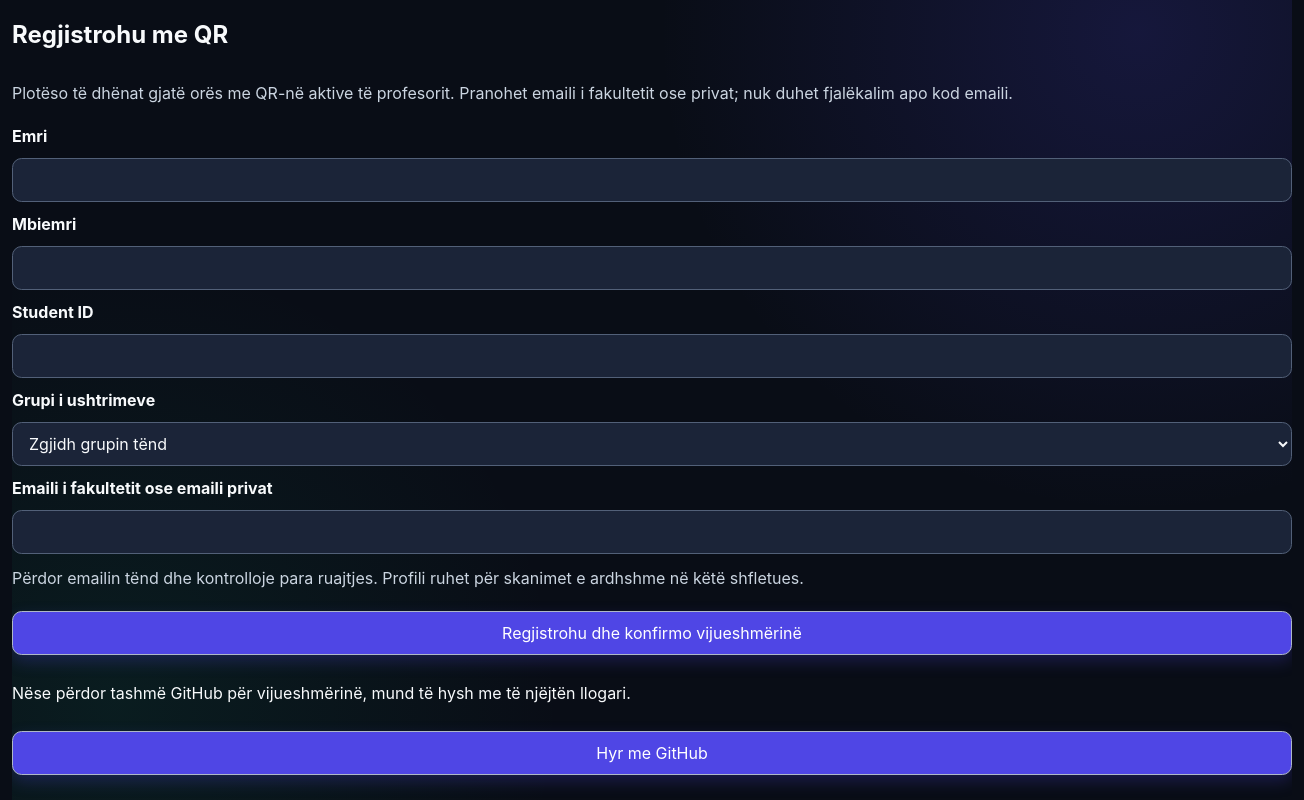
student check-in › registers without GitHub and retries check-in with the original held QR
Type "Arta" into the field labelled "Emri" at (652, 180), box [12,158,1292,202]
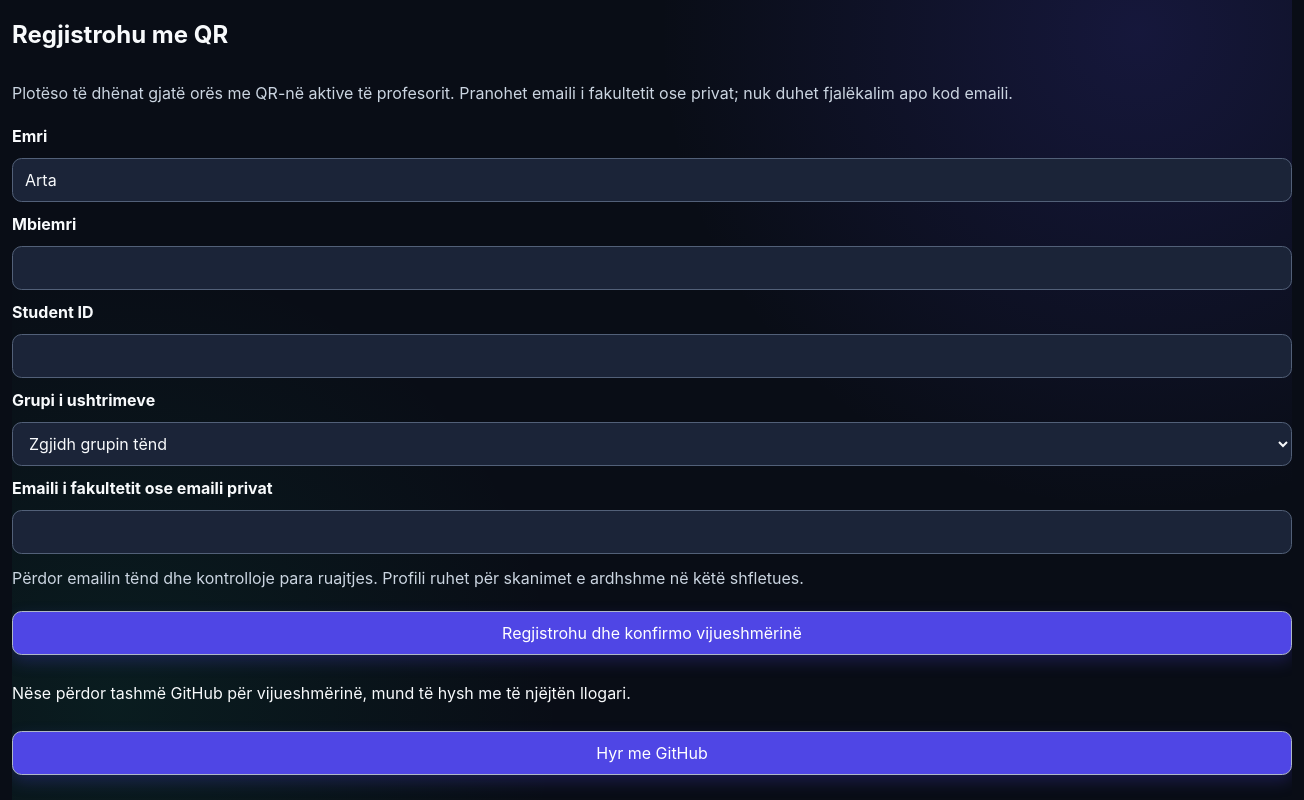
Type "Kola" into the field labelled "Mbiemri" at (652, 268), box [12,246,1292,290]
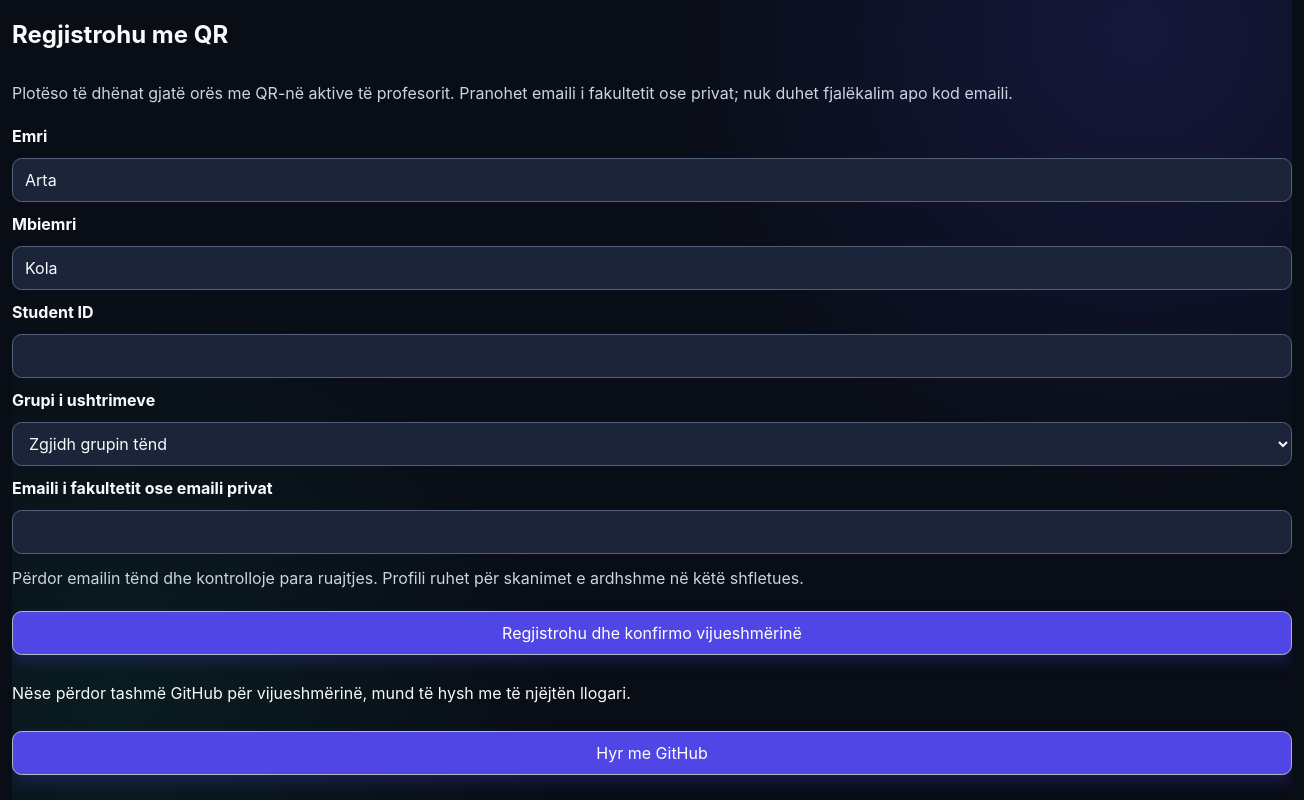
Type "A-100" into the field labelled "Student ID" at (652, 356), box [12,334,1292,378]
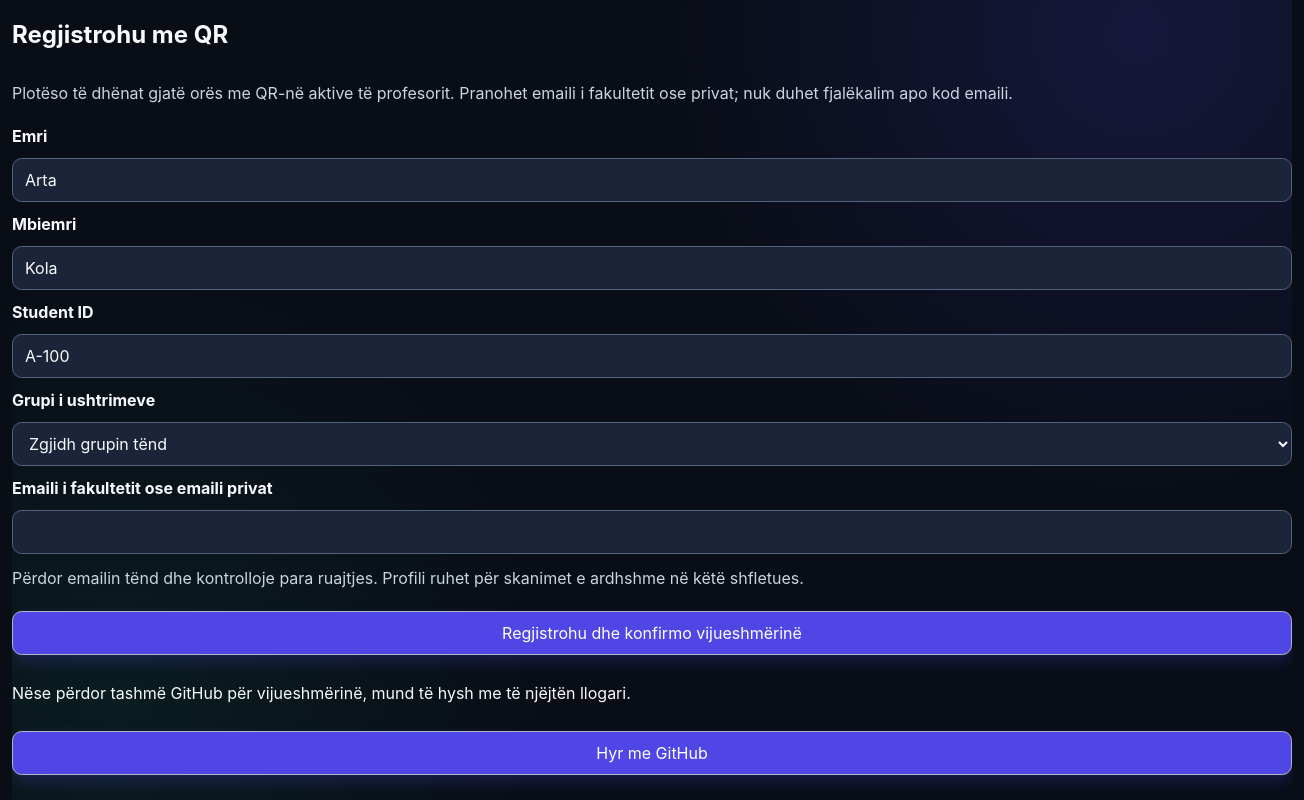
Select "Grupi 1 · 14:45" in the dropdown labelled "Grupi i ushtrimeve" at (652, 444), box [12,422,1292,466]
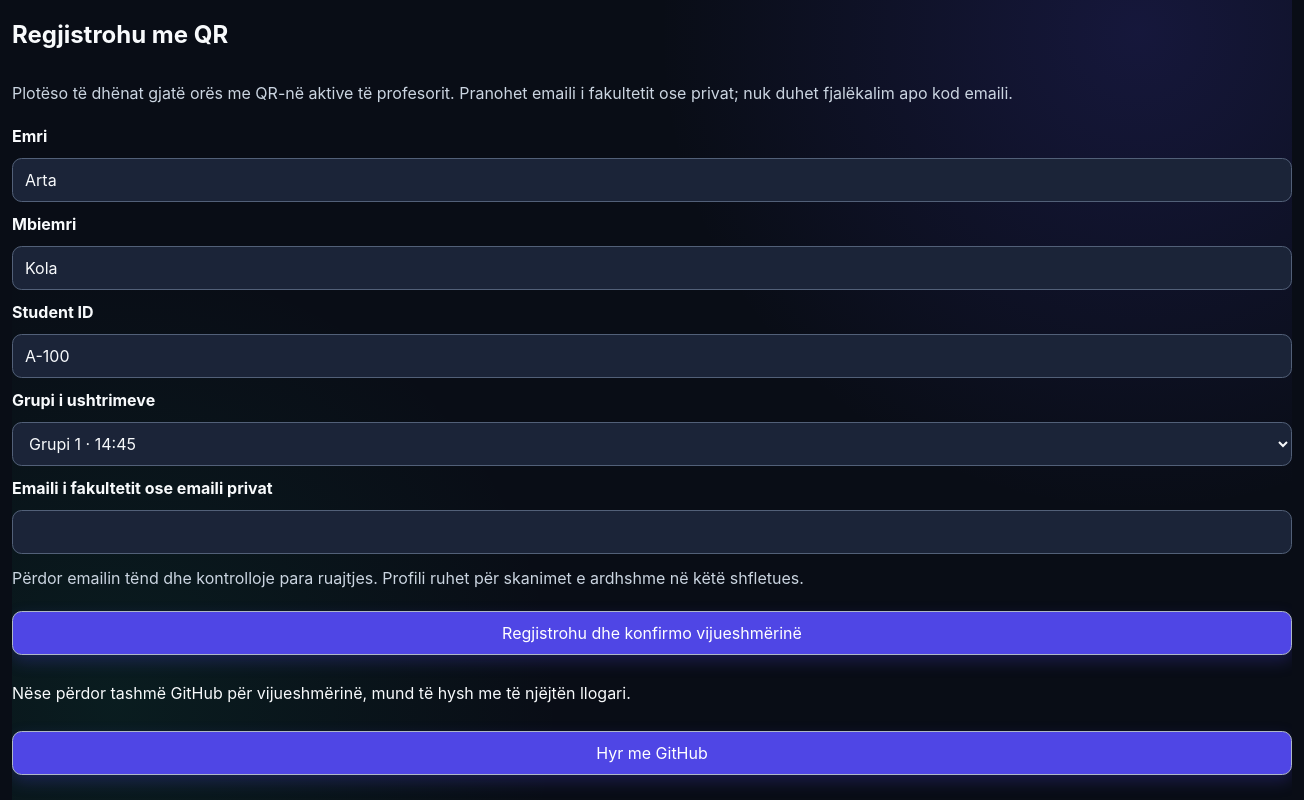
Type "arta@gmail.com" into the field labelled "Emaili i fakultetit ose emaili privat" at (652, 532), box [12,510,1292,554]
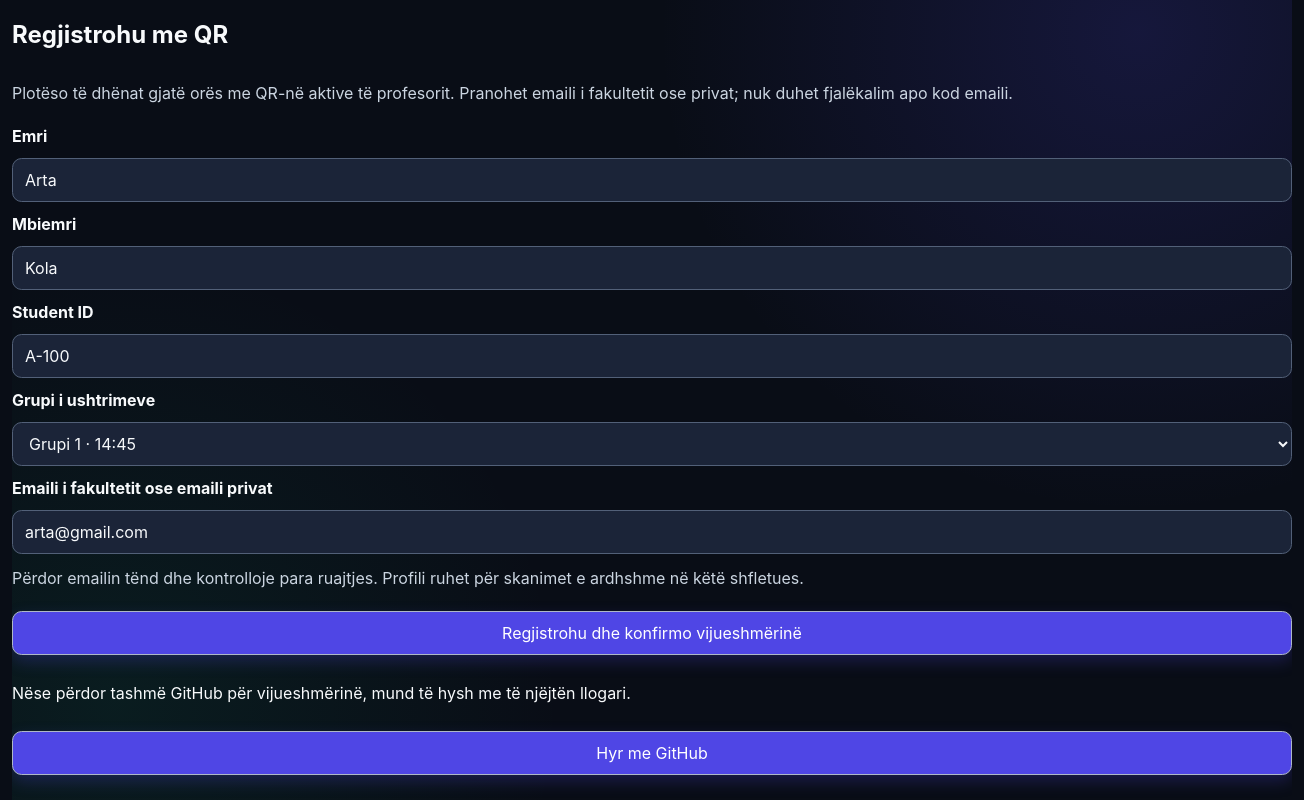
Submit the form "Regjistrohu me QR"
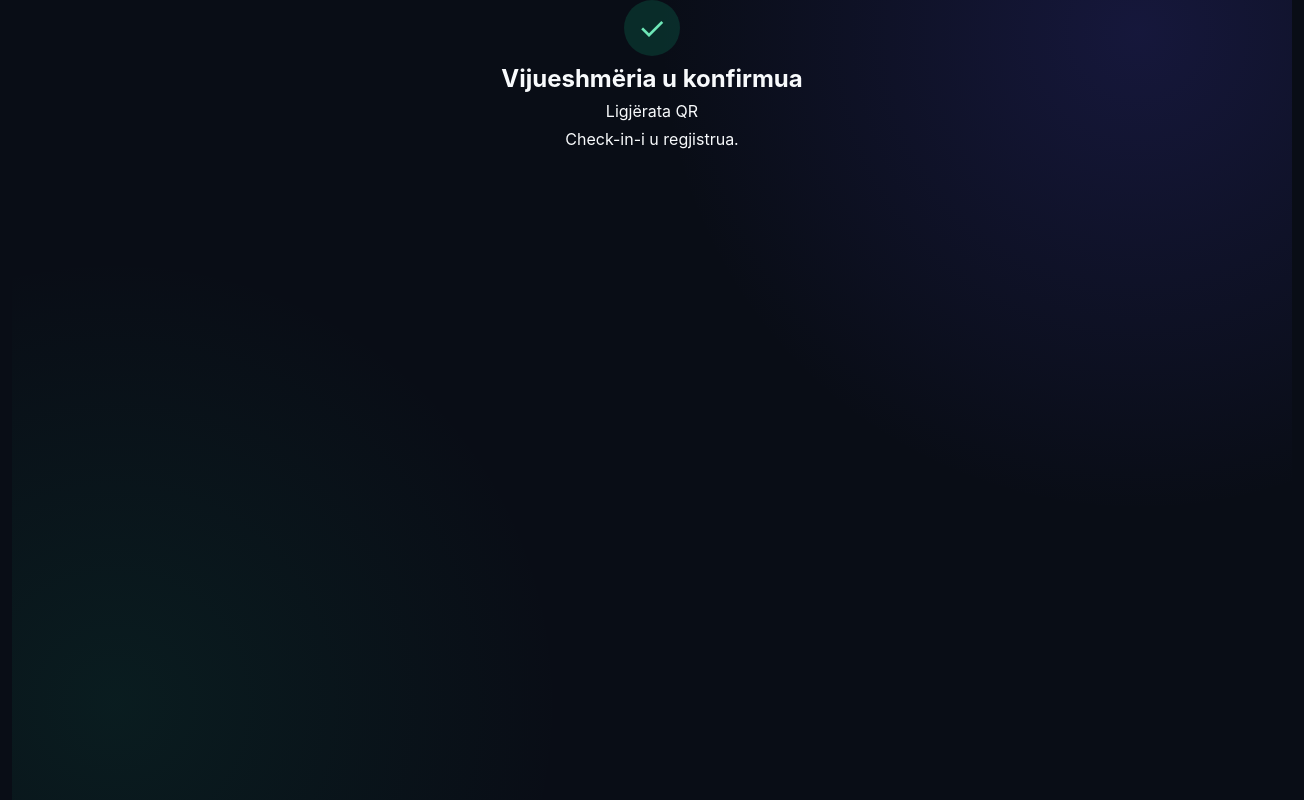
expect the heading "Vijueshmëria u konfirmua" is shown: met, box [501,64,803,93]
